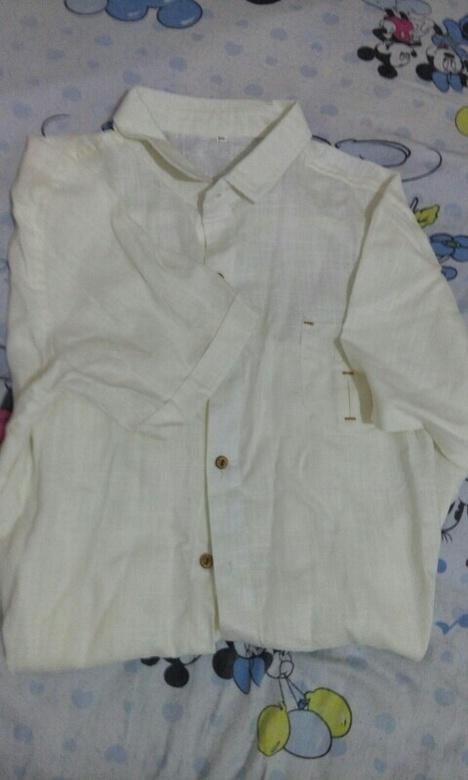S_shirt: (4, 85, 468, 660)
